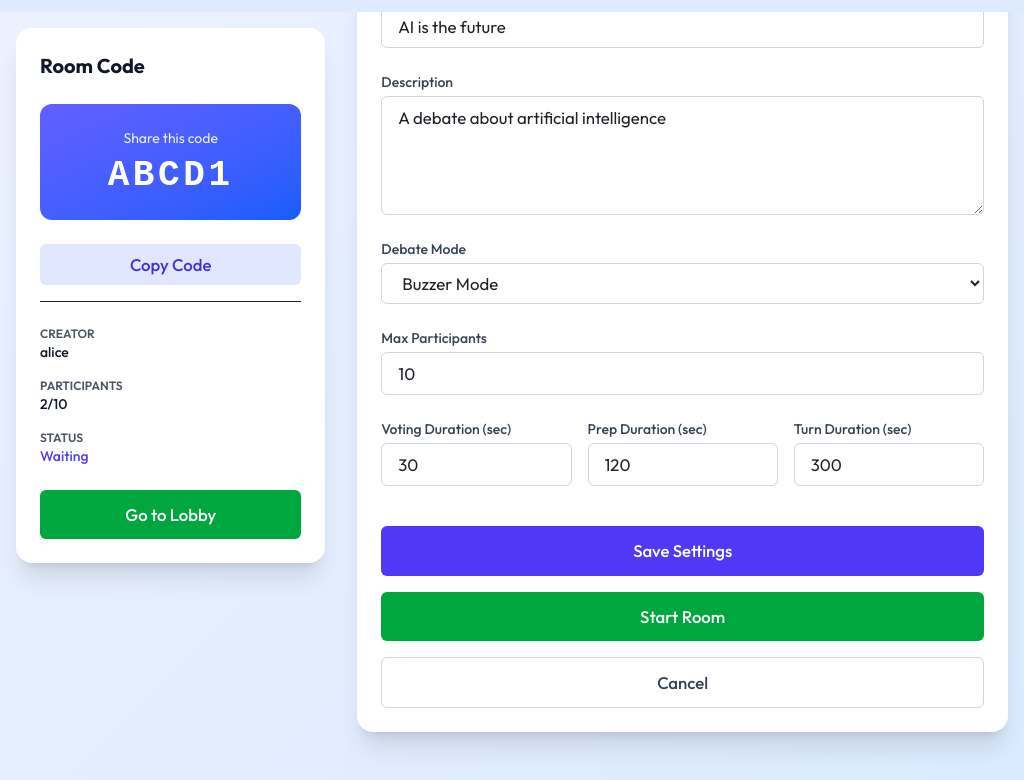
RoomSettings › save settings › shows 'Saving...' while save is in progress
(page scrolled)
Click the button "Save Settings" at coordinates (683, 551), box x1=381 y1=526 x2=984 y2=576
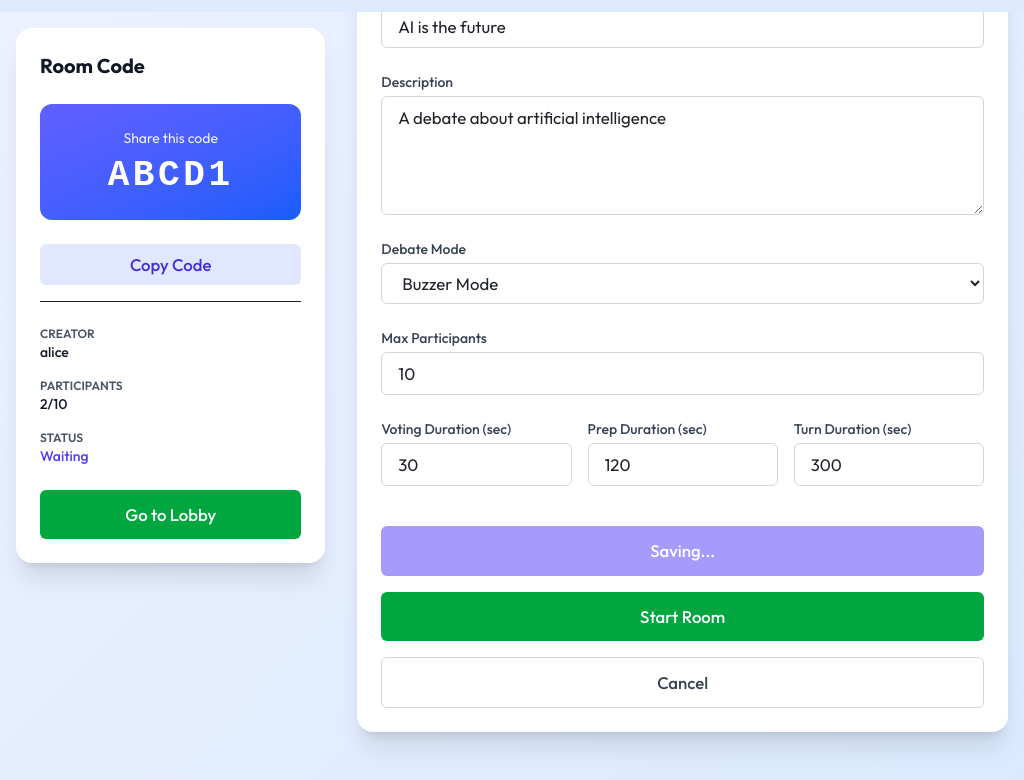
expect the button "Saving..." is shown: met, box x1=381 y1=526 x2=984 y2=576
